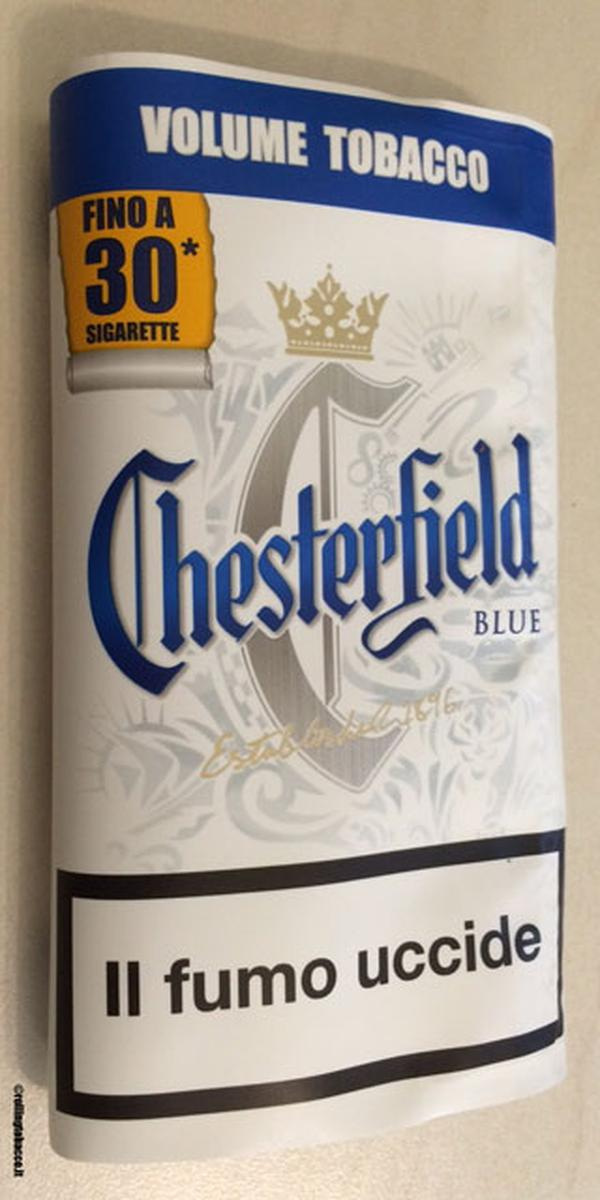chesterfield_blue: (68, 198, 561, 1078)
